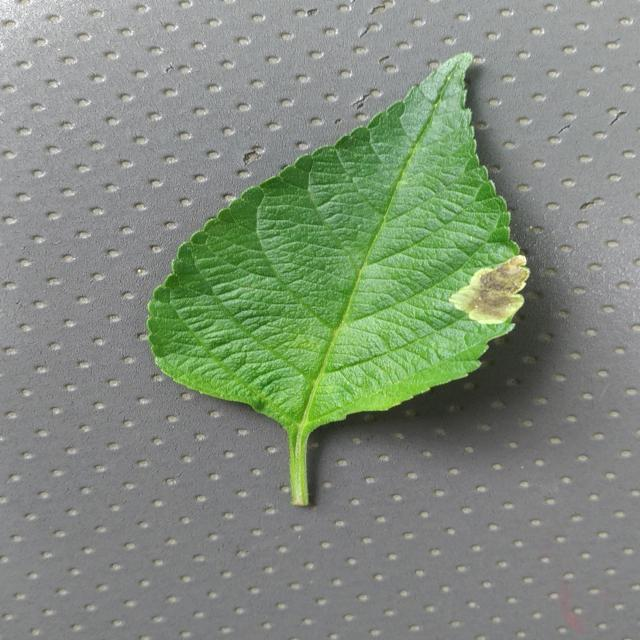Lantana: (147, 54, 529, 505)
